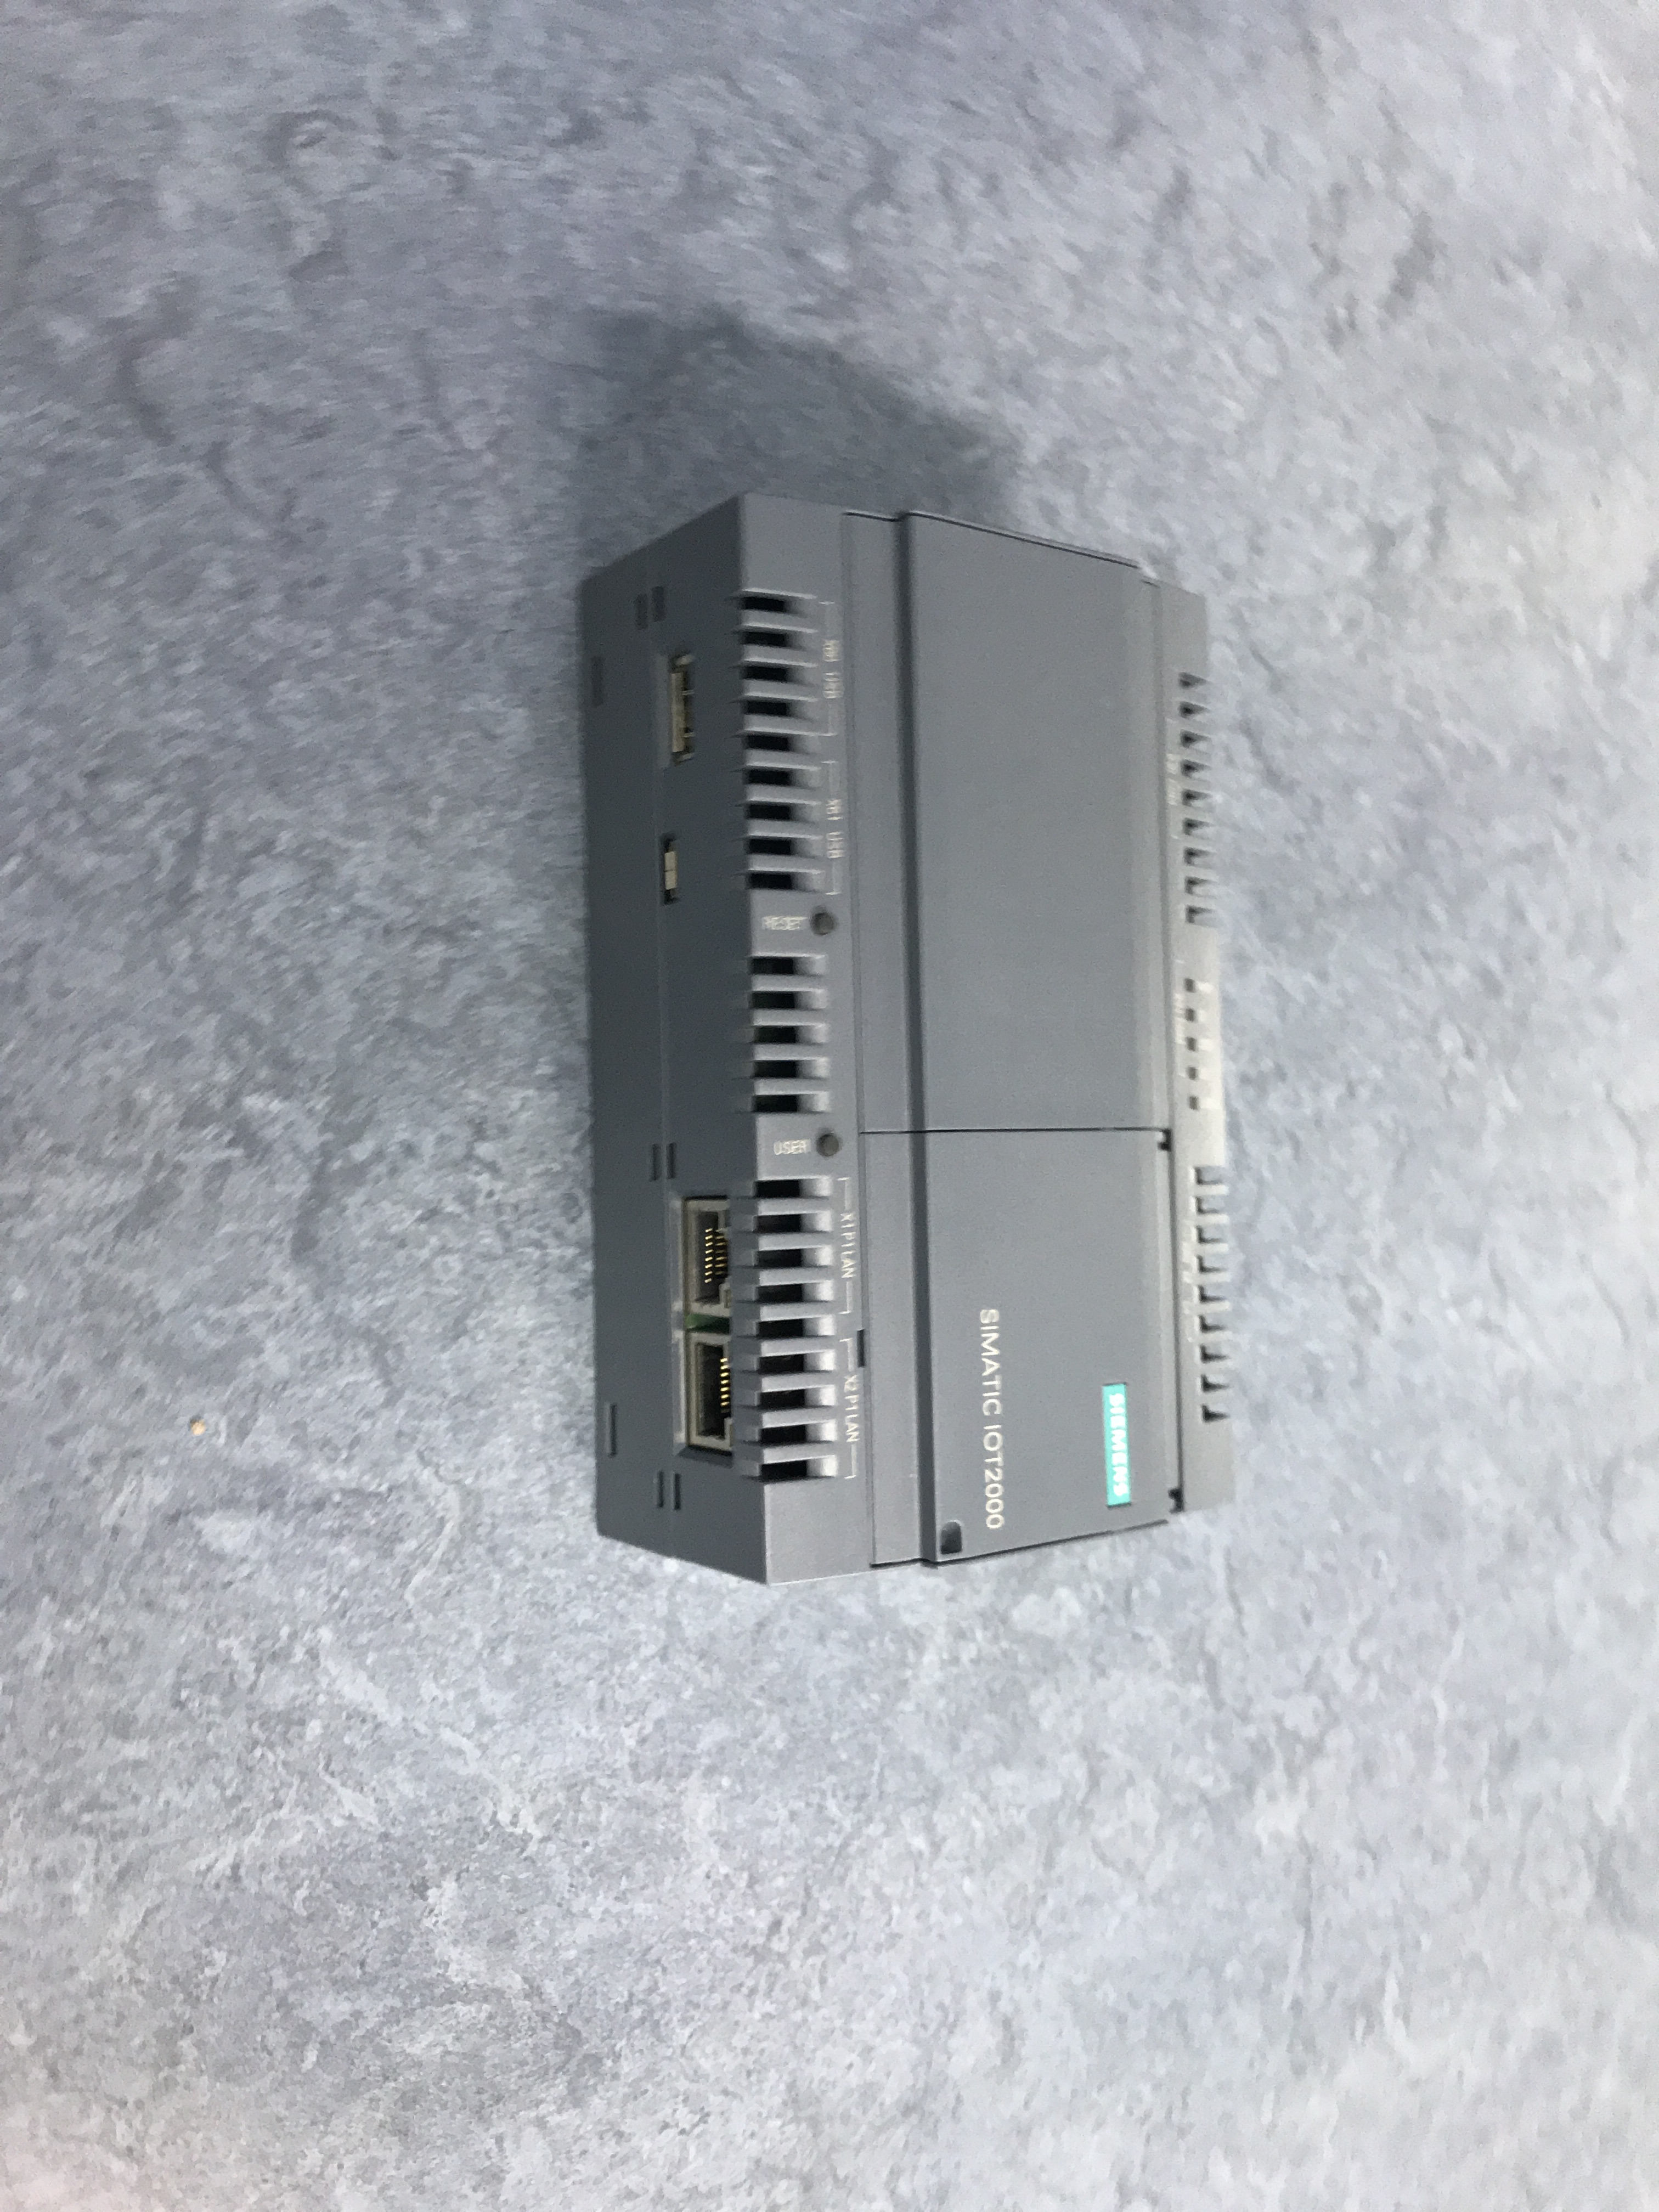device: (575, 488, 1237, 1588)
